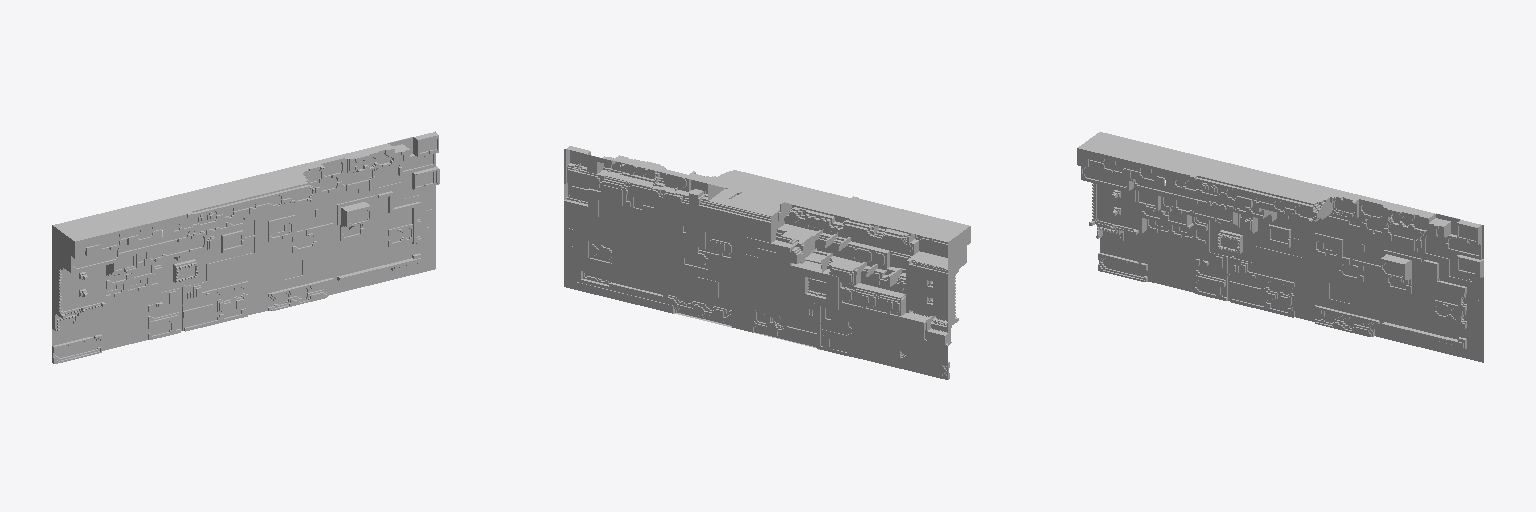
File: lozOverworldBroad_v3.obj
3 renders of one model, left to right at view 1: azimuth 30°, elevation 25°; view 2: azimuth 150°, elevation 25°; view 3: azimuth 330°, elevation 25°, orthographic.
Visible parts, largest first — view 1: Mesh1 Model, Mesh2 Model; view 2: Mesh1 Model; view 3: Mesh1 Model, Mesh2 Model.
Part boxes in pixels (left/top/right/bottom): Mesh1 Model: left=52, top=131, right=439, bottom=363; Mesh2 Model: left=337, top=195, right=375, bottom=241; Mesh1 Model: left=564, top=146, right=970, bottom=379; Mesh1 Model: left=1077, top=132, right=1483, bottom=362; Mesh2 Model: left=1381, top=250, right=1421, bottom=294.
Bounding box in the file's own units: 4096 × 1408 × 464.